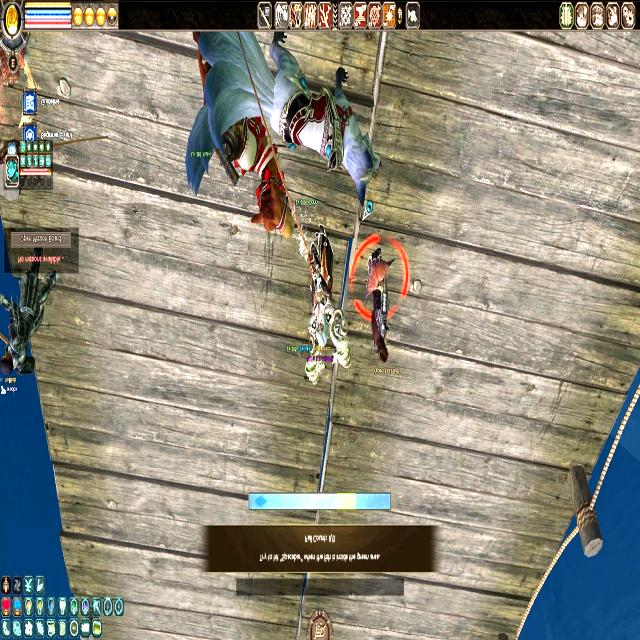fishes: (256, 495, 267, 509)
